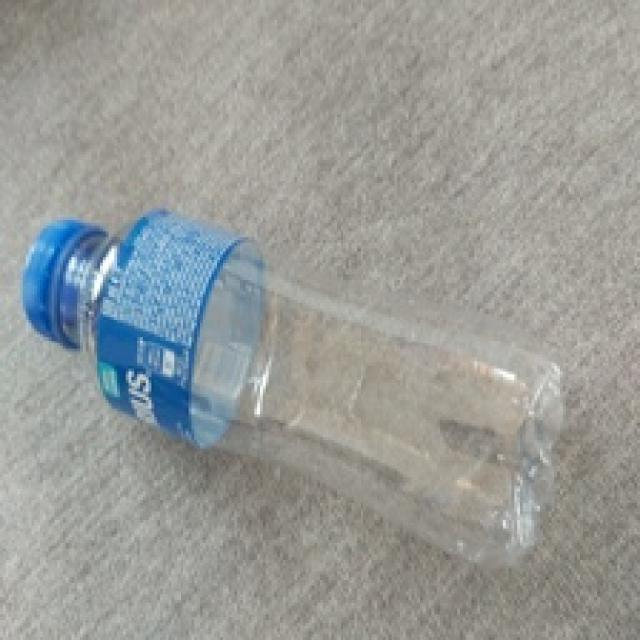plastic_bottle: (20, 206, 564, 566)
